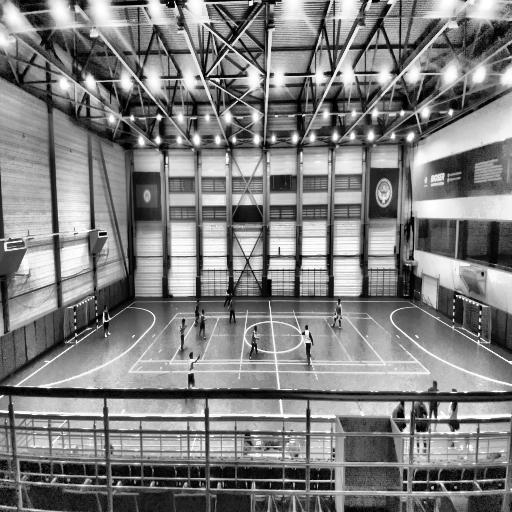ball: (309, 352, 311, 358)
player: (185, 352, 201, 388), (302, 323, 314, 368), (249, 324, 259, 361), (226, 293, 237, 326), (332, 298, 342, 330), (102, 305, 111, 339), (178, 317, 186, 353), (198, 308, 206, 341), (224, 285, 232, 307), (194, 299, 200, 327)
